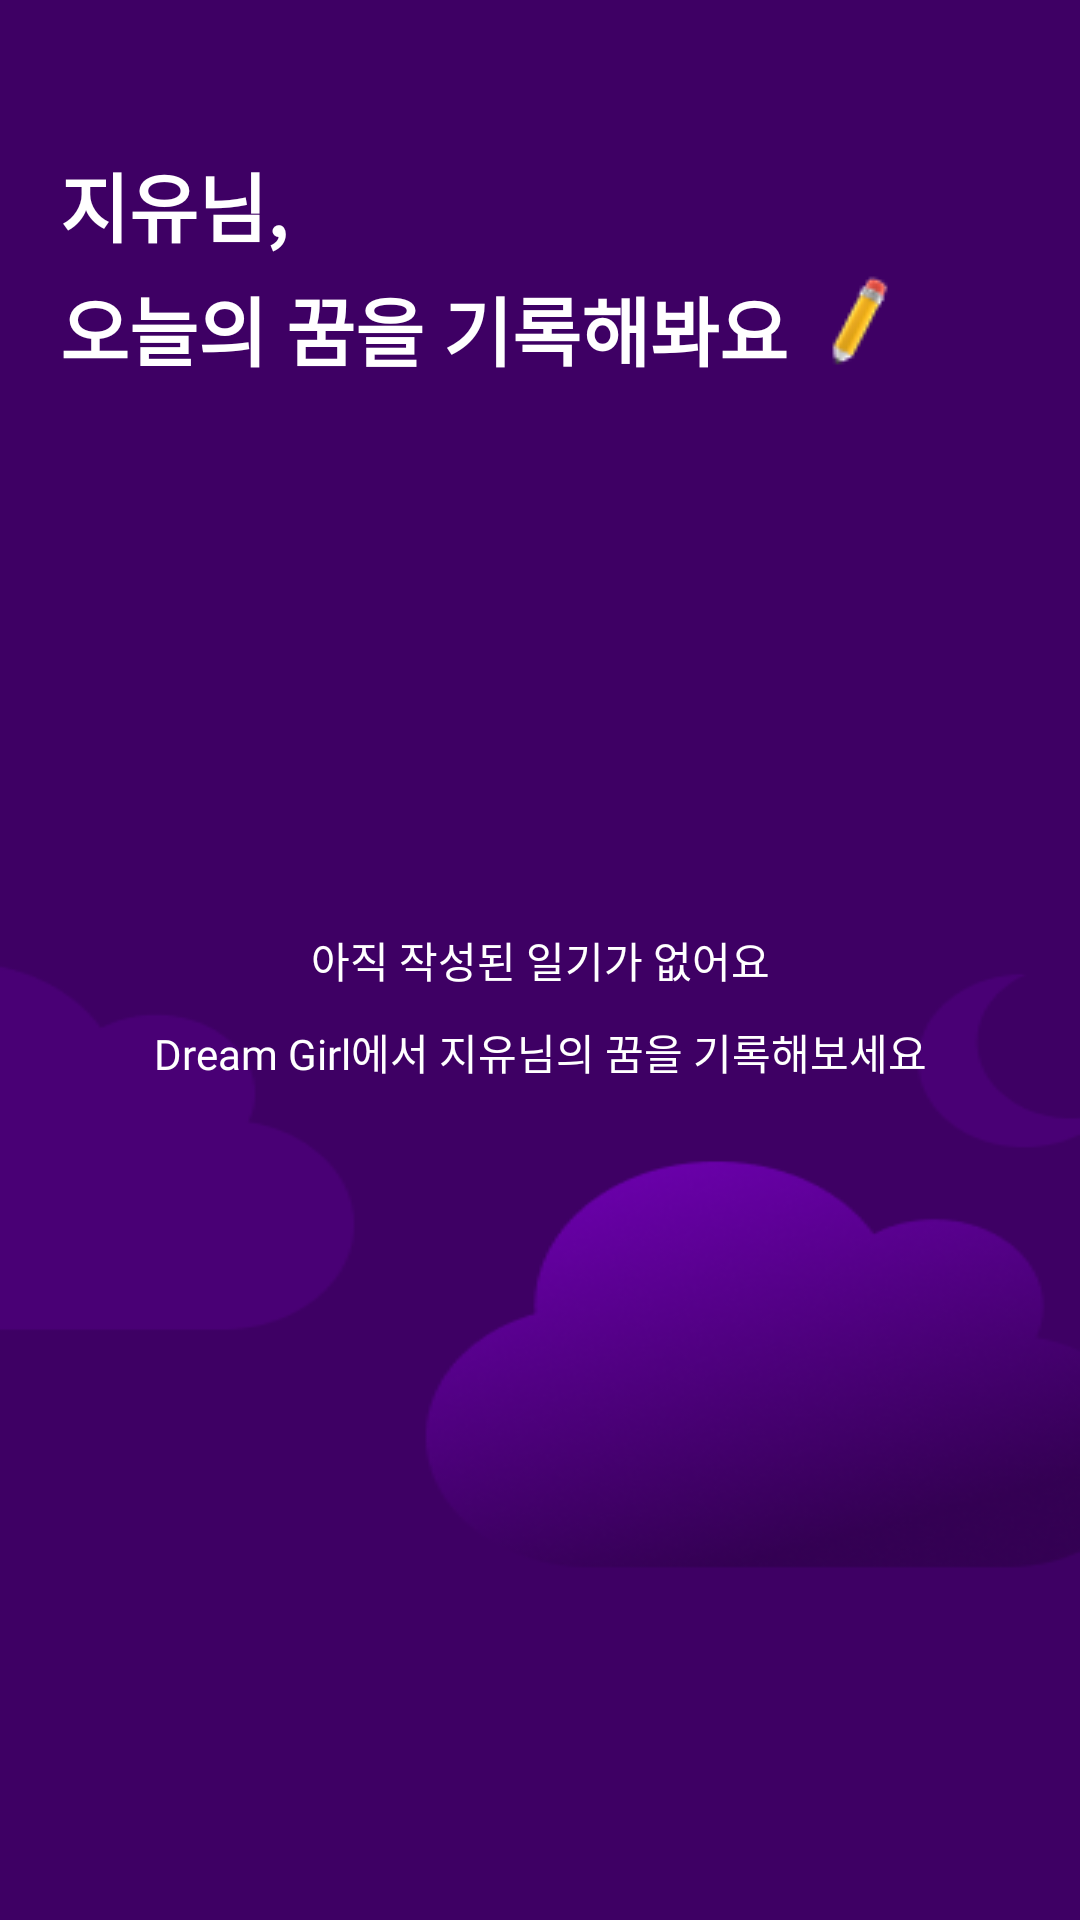

Named icons in this screenshot (1080px x 1920px) and their bounding boxes, bbox(x1, y1, x2, y2):
edit: bbox(832, 277, 888, 364)
